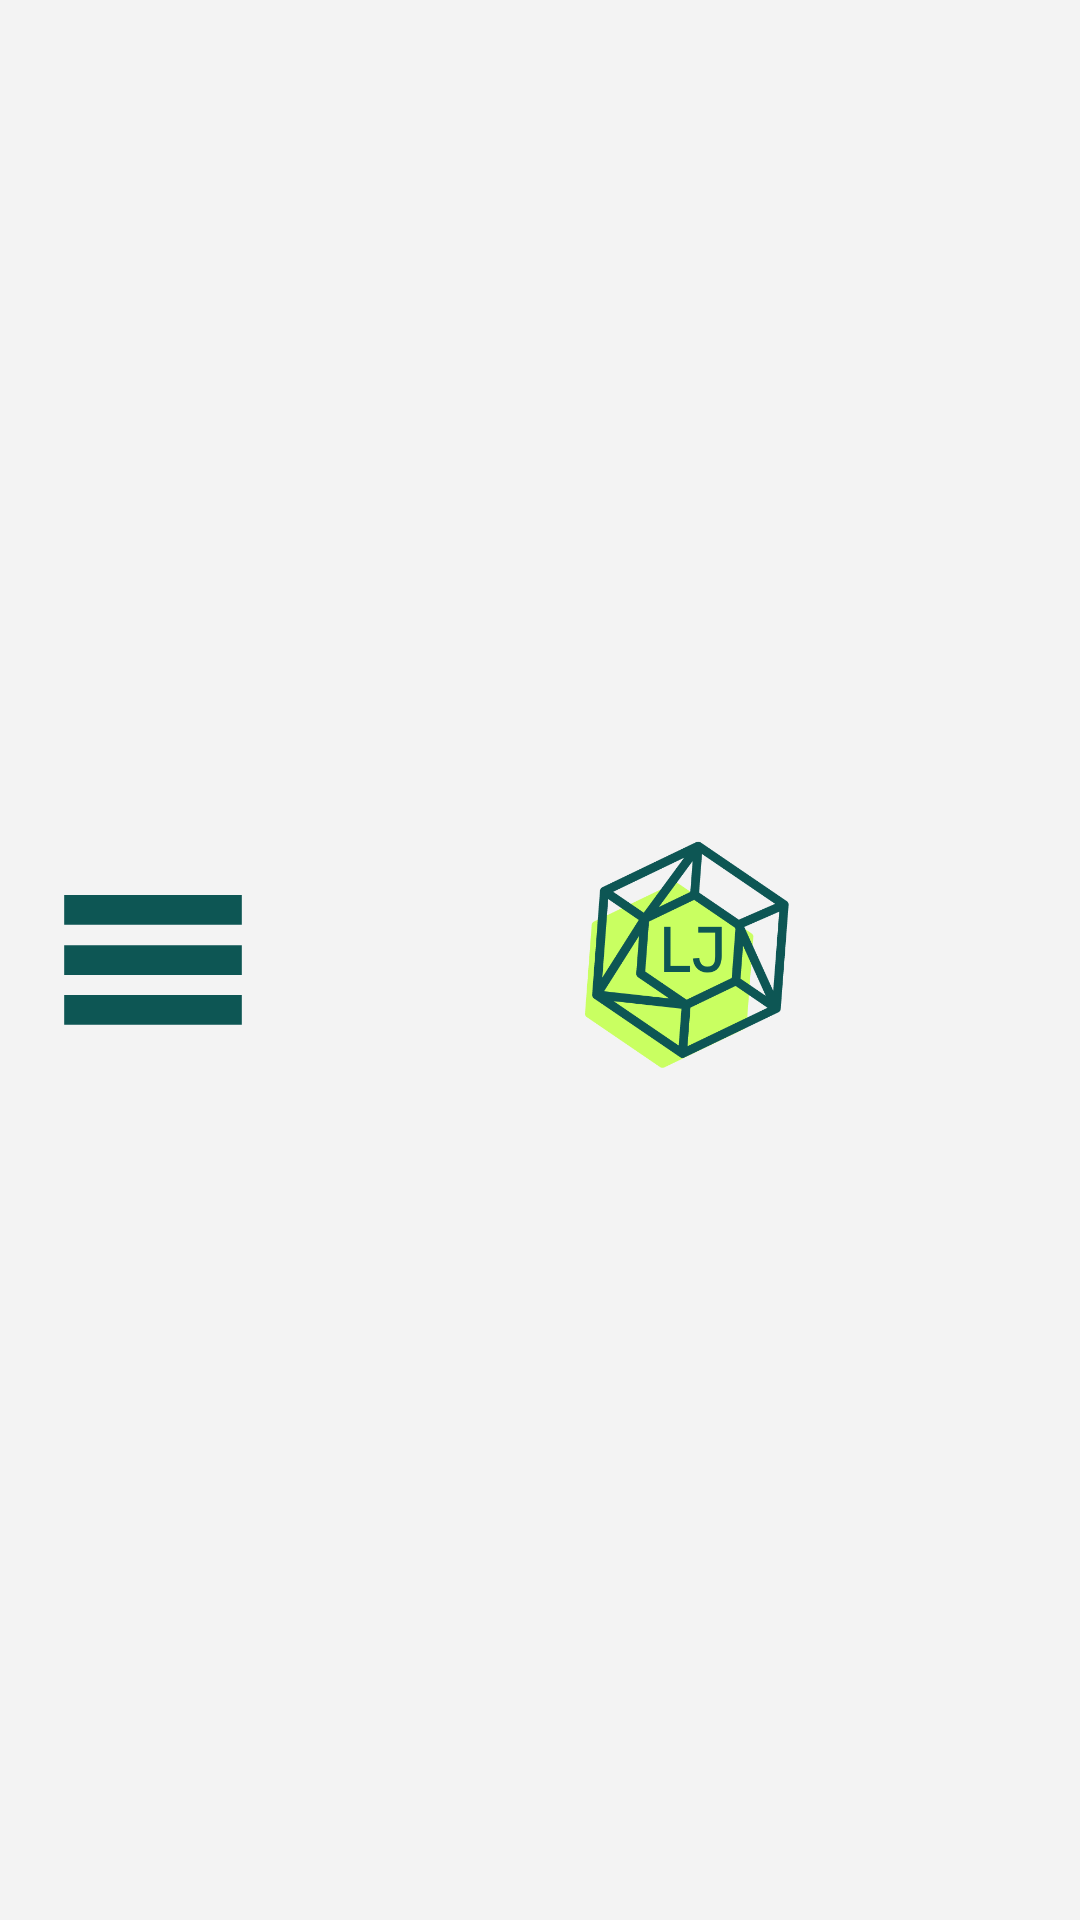

Locate icon controls on the screen. Image size 1080x1920, boxes as (x1, y1, x2, y2).
hamburgicon: (64, 895, 242, 1025)
